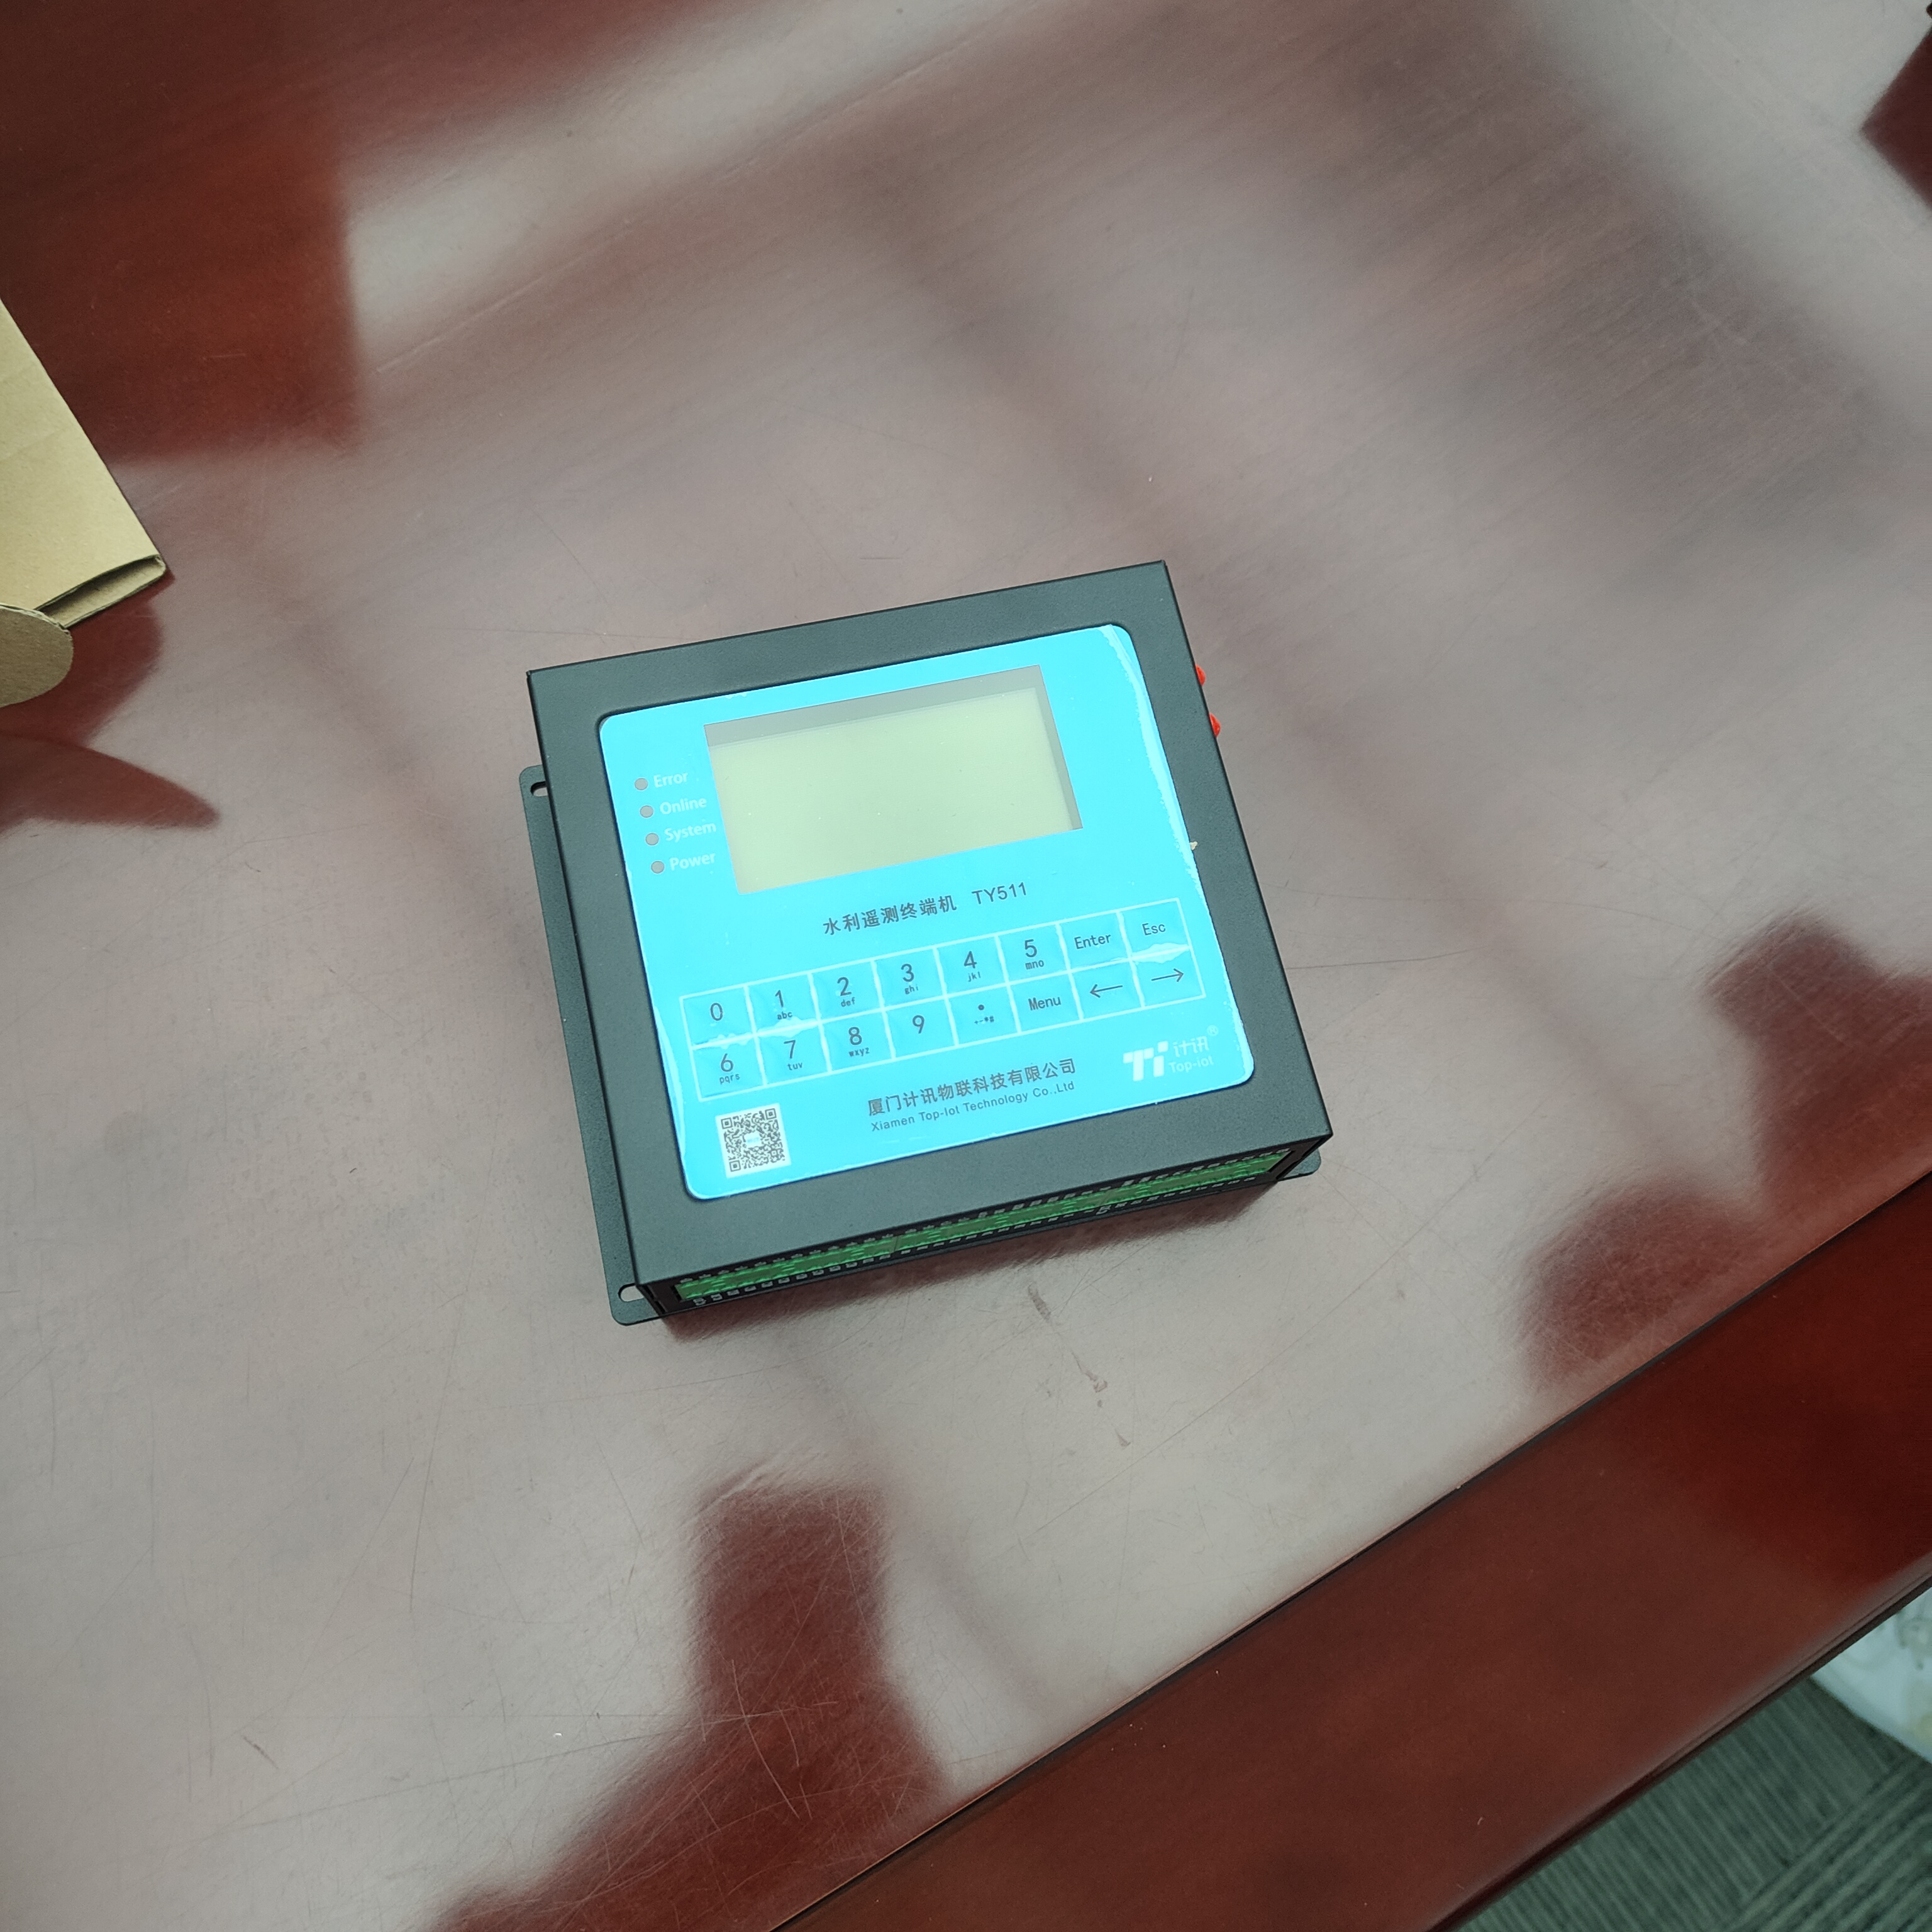slyczd: (502, 556, 1343, 1336)
